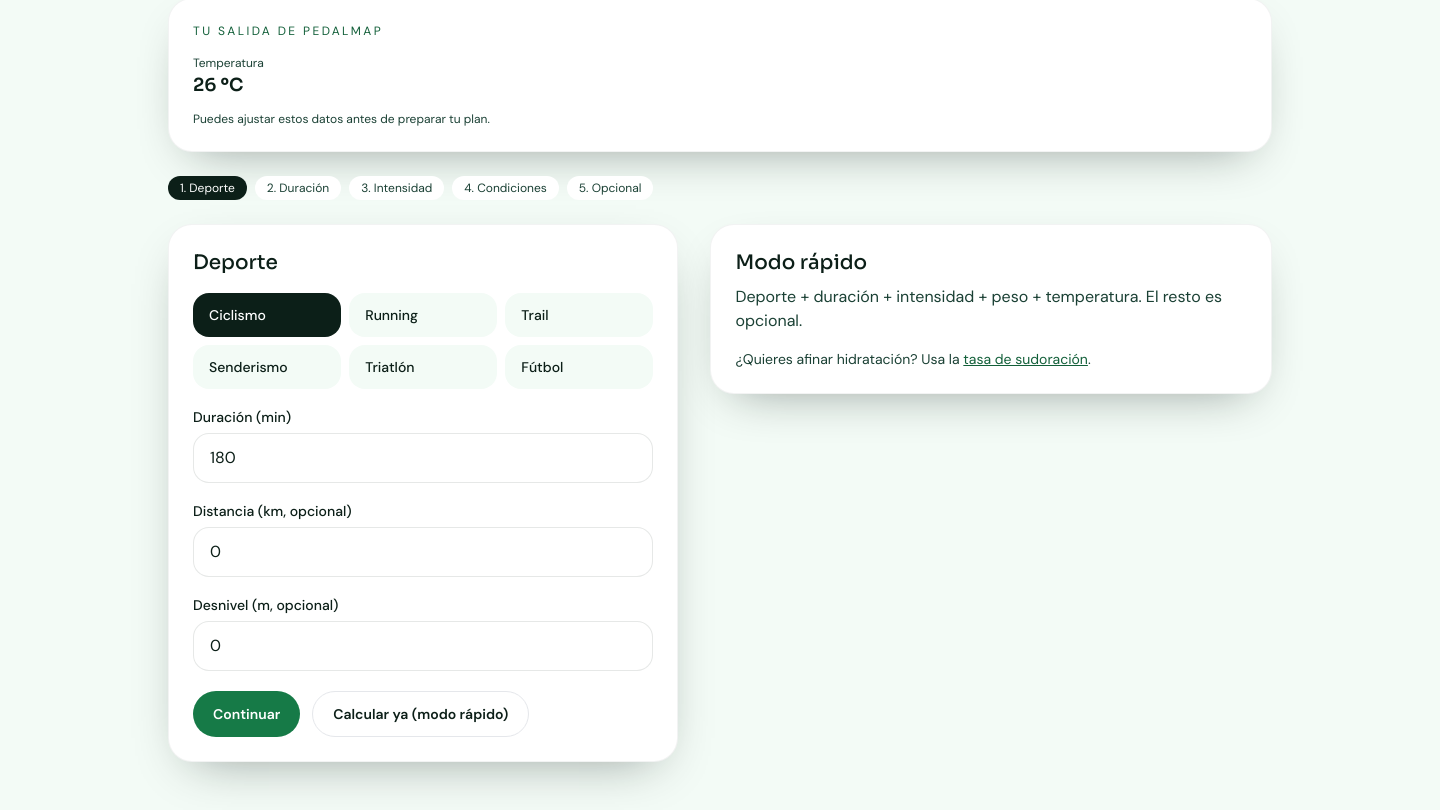
Test case: PlannerPage PedalMap integration › prefills temperature from PedalMap and shows it in step 2
(page scrolled)
Click the button "Continuar". click: [247, 714]
box: [193, 691, 300, 737]
(page scrolled)
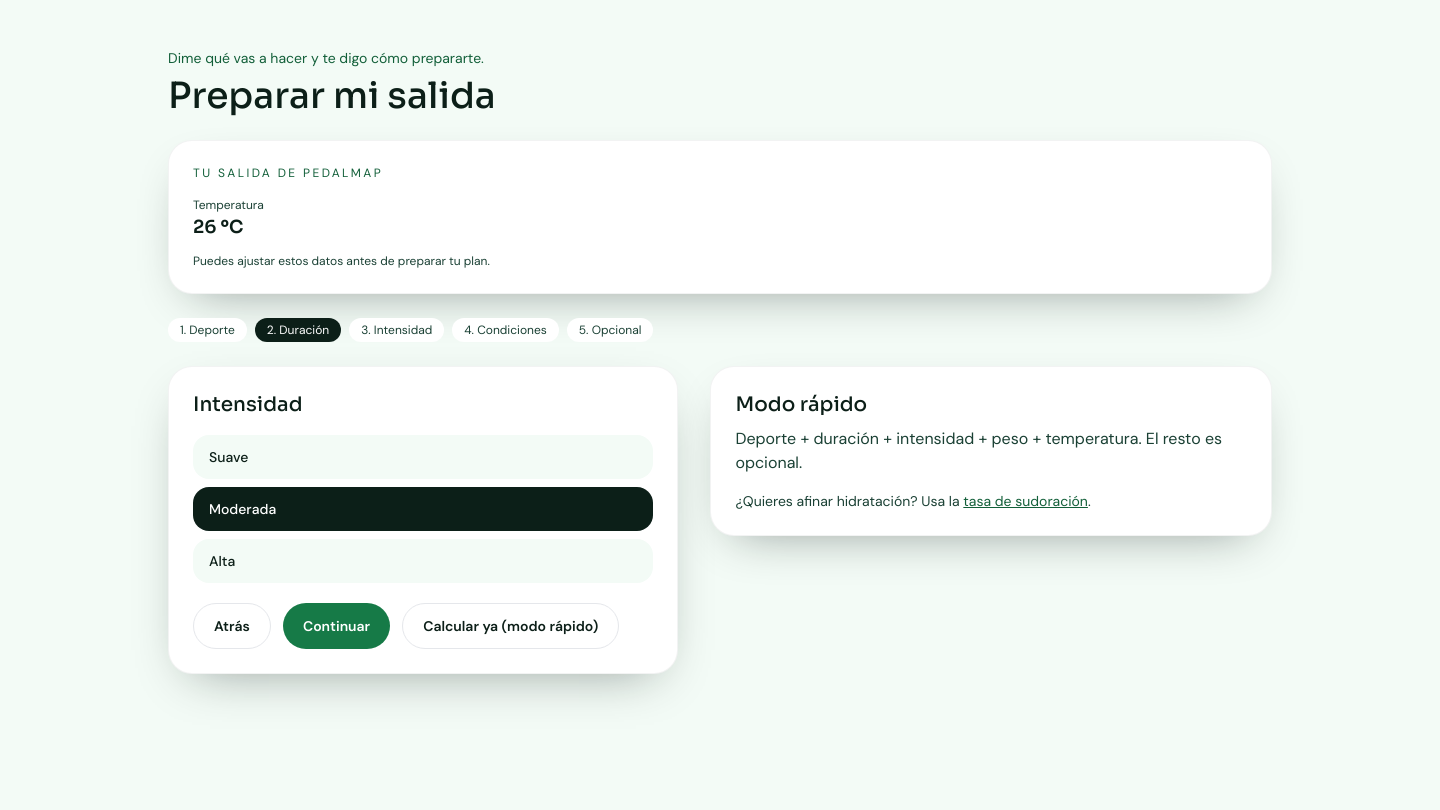
Click the button "Continuar". click: [337, 626]
box: [283, 603, 390, 649]
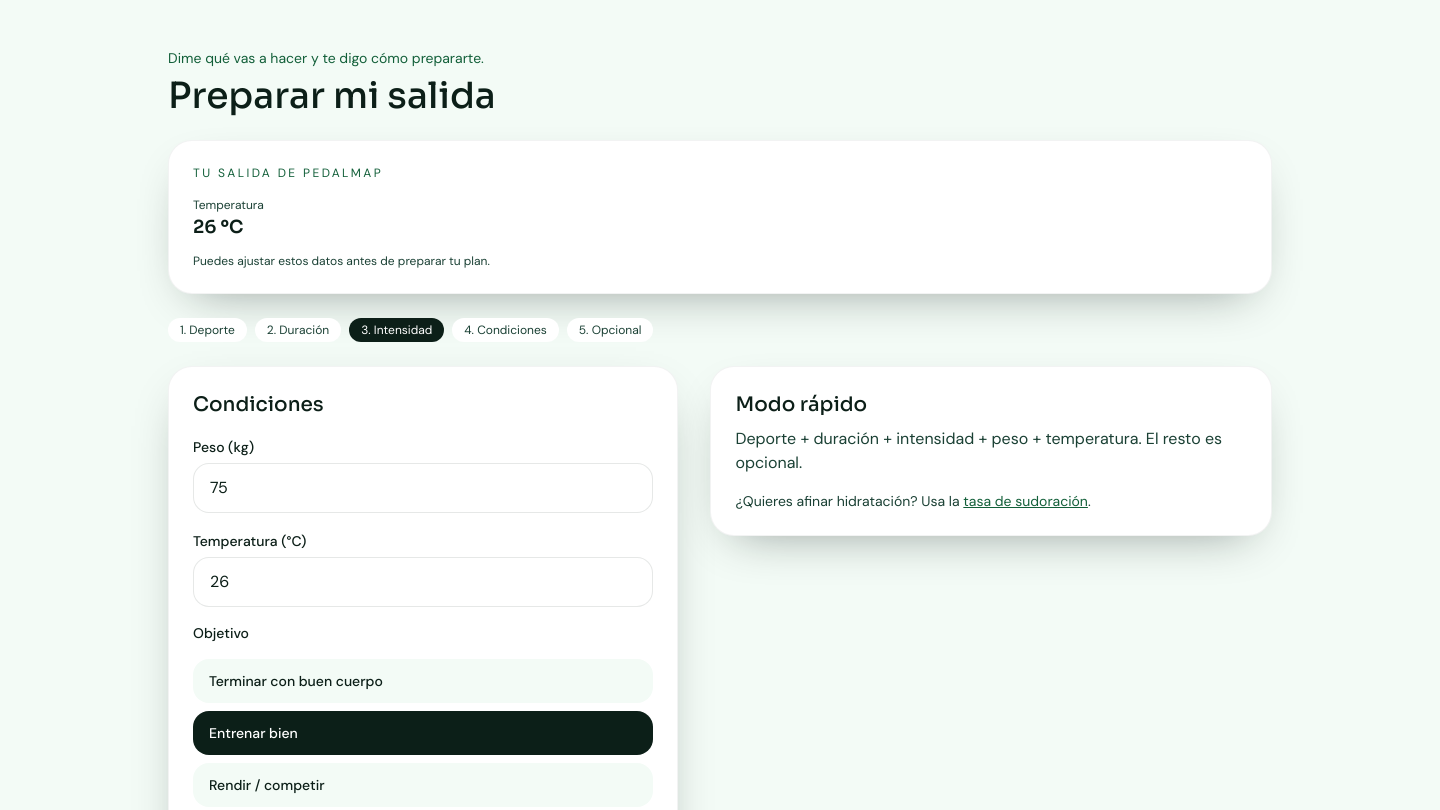
expect the number field labelled "Temperatura (°C)" holds "26": met, box [193, 557, 654, 607]
